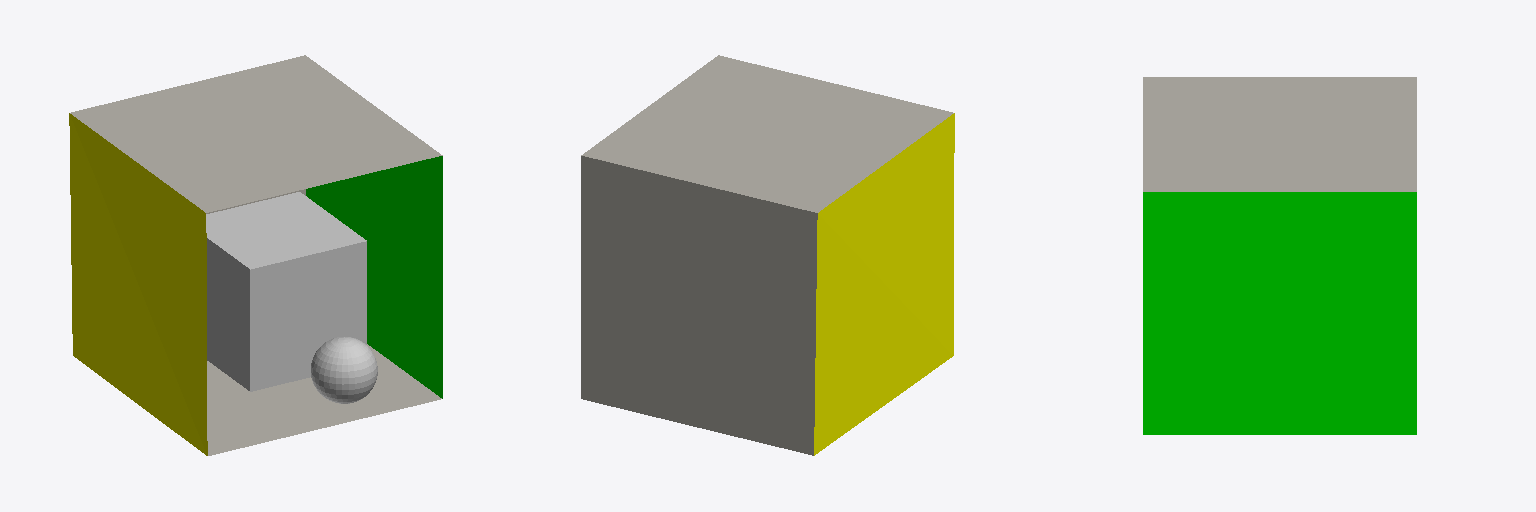
Rendered from CornellBoxMarcel2.obj.
The picture shows the model from 3 angles: view 1: azimuth 30°, elevation 25°; view 2: azimuth 150°, elevation 25°; view 3: azimuth 270°, elevation 25°; orthographic projection.
Parts seen in each view (by area): view 1: CornellBoxMarcel.006_leftWall, CornellBoxMarcel.003_ceiling, off, CornellBoxMarcel.005_rightWall, CornellBoxMarcel.002_floor, Sphere.001_Glass; view 2: CornellBoxMarcel.004_backWall, CornellBoxMarcel.006_leftWall, CornellBoxMarcel.003_ceiling; view 3: CornellBoxMarcel.005_rightWall, CornellBoxMarcel.003_ceiling.
Boxes of the visible parts, x1=… form: CornellBoxMarcel.006_leftWall: x1=69, y1=113, x2=207, y2=455; CornellBoxMarcel.003_ceiling: x1=70, y1=55, x2=442, y2=212; off: x1=206, y1=192, x2=366, y2=391; CornellBoxMarcel.005_rightWall: x1=306, y1=156, x2=442, y2=398; CornellBoxMarcel.002_floor: x1=207, y1=344, x2=441, y2=455; Sphere.001_Glass: x1=311, y1=337, x2=377, y2=403; CornellBoxMarcel.004_backWall: x1=581, y1=156, x2=817, y2=455; CornellBoxMarcel.006_leftWall: x1=814, y1=113, x2=954, y2=455; CornellBoxMarcel.003_ceiling: x1=581, y1=55, x2=953, y2=212; CornellBoxMarcel.005_rightWall: x1=1143, y1=192, x2=1416, y2=434; CornellBoxMarcel.003_ceiling: x1=1143, y1=77, x2=1416, y2=191.
Bounding box in the file's own units: 2.02 × 1.99 × 2.03.